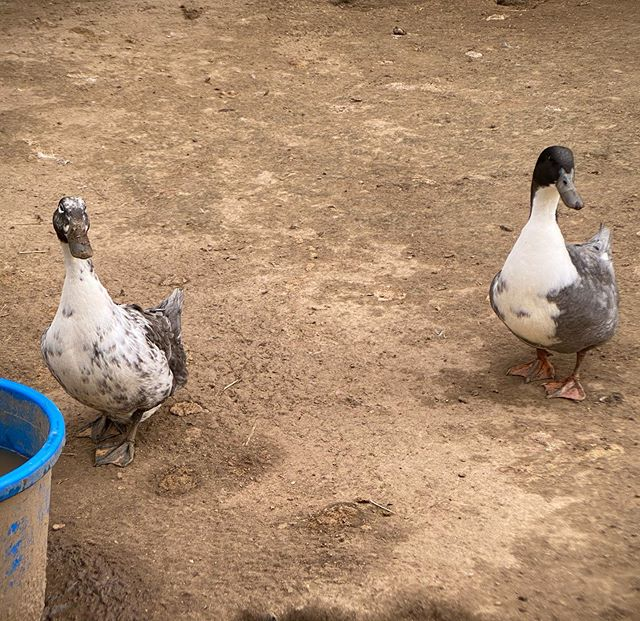animal: (20, 190, 216, 464), (487, 131, 629, 404)
